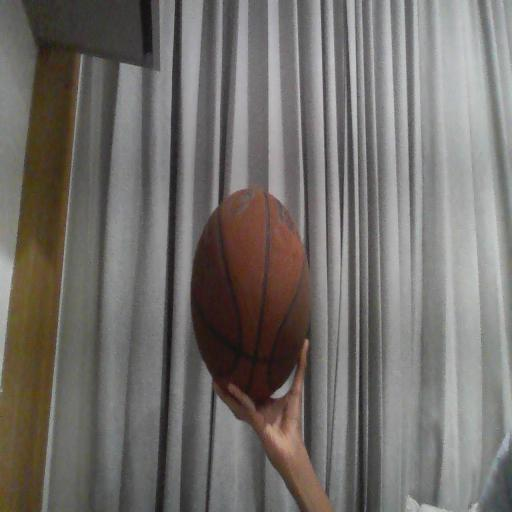basketball: (191, 189, 309, 403)
